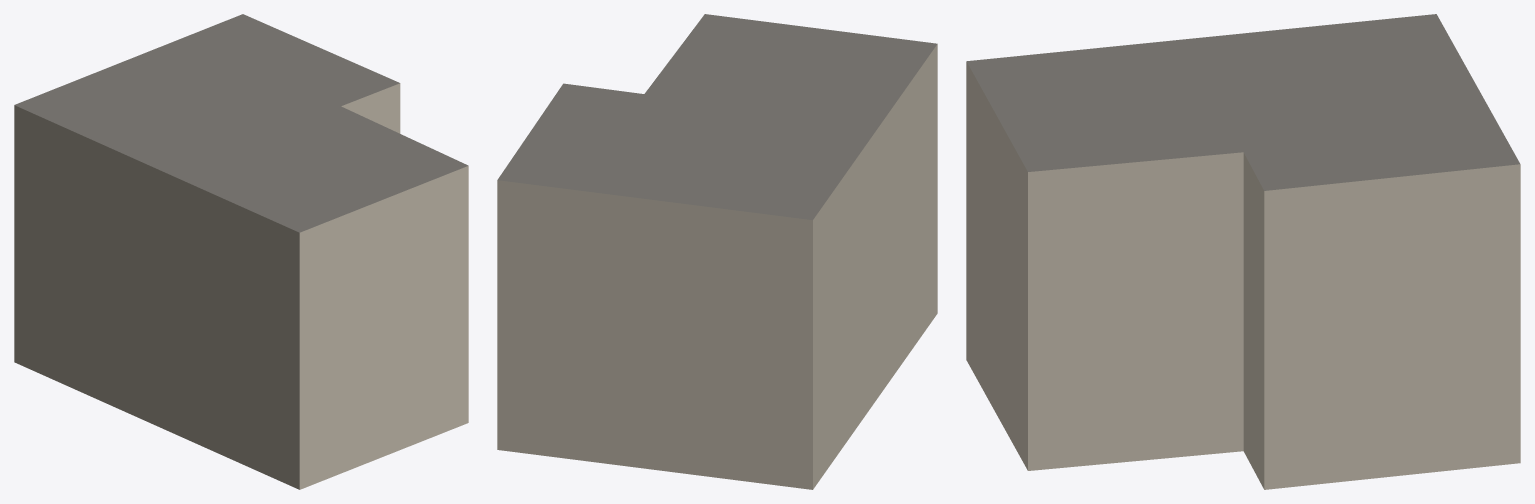
The picture shows the model from 3 angles, left to right: view 1: azimuth 30°, elevation 25°; view 2: azimuth 150°, elevation 25°; view 3: azimuth 270°, elevation 25°; orthographic projection. The views are drawn at different scales.
Visible parts, largest first — view 1: HP-w1197606023; view 2: HP-w1197606023; view 3: HP-w1197606023.
Boxes of the visible parts, <box> form: HP-w1197606023: <box>14,14,468,489</box>; HP-w1197606023: <box>497,14,937,489</box>; HP-w1197606023: <box>966,14,1520,489</box>.
Size of the model in its own units: 22.86 by 18 by 30.24.
